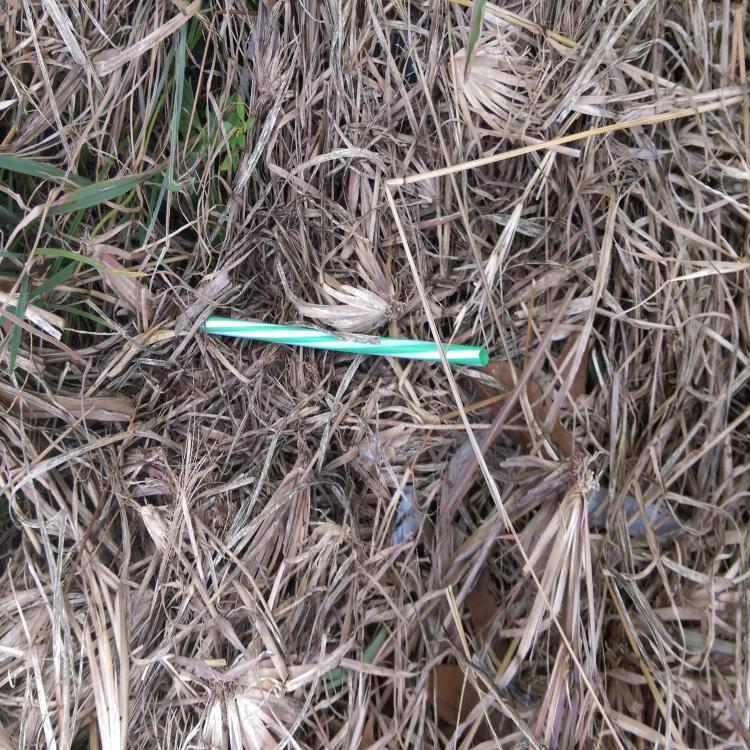Plastic film: (392, 484, 422, 547), (362, 440, 376, 466)
Plastic straw: (200, 316, 488, 368)
